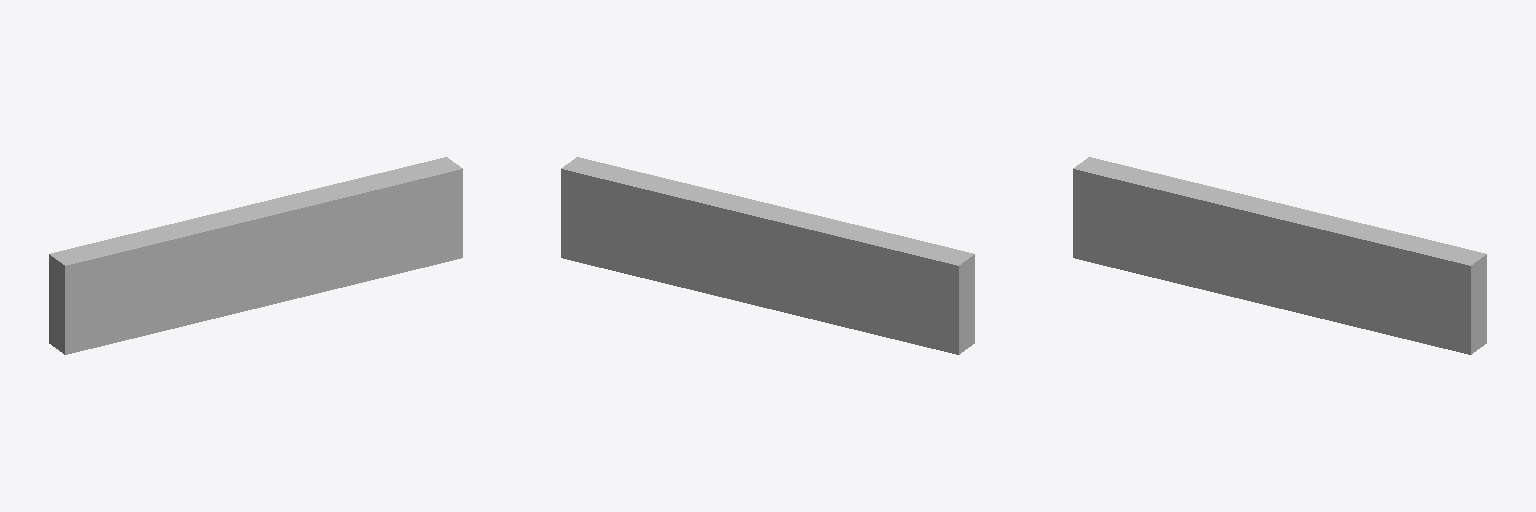
The model's file is exit plate.obj.
The picture shows the model from 3 angles: view 1: azimuth 30°, elevation 25°; view 2: azimuth 150°, elevation 25°; view 3: azimuth 330°, elevation 25°; orthographic projection.
Parts seen in each view (by area): view 1: object 1; view 2: object 1; view 3: object 1.
Boxes of the visible parts, x1=… form: object 1: x1=49, y1=157, x2=462, y2=354; object 1: x1=561, y1=157, x2=974, y2=354; object 1: x1=1073, y1=157, x2=1486, y2=354.
Bounding box in the file's own units: 1.4 × 0.3 × 0.1.